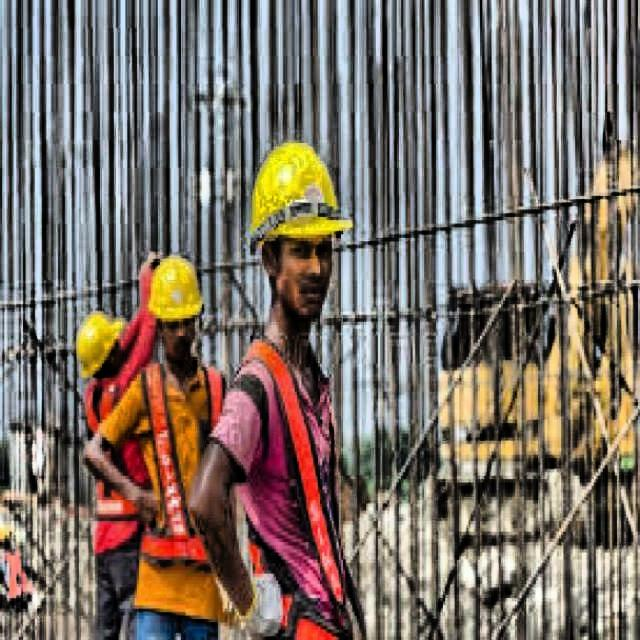bull_dozer/loader/grader: (0, 6, 210, 421)
person: (188, 140, 356, 640), (78, 251, 229, 640), (77, 247, 160, 640)
